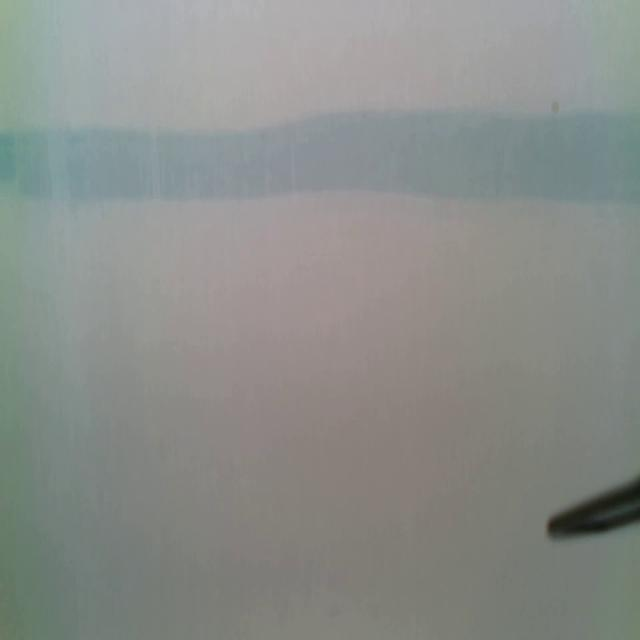color bleeding: (1, 107, 640, 213)
